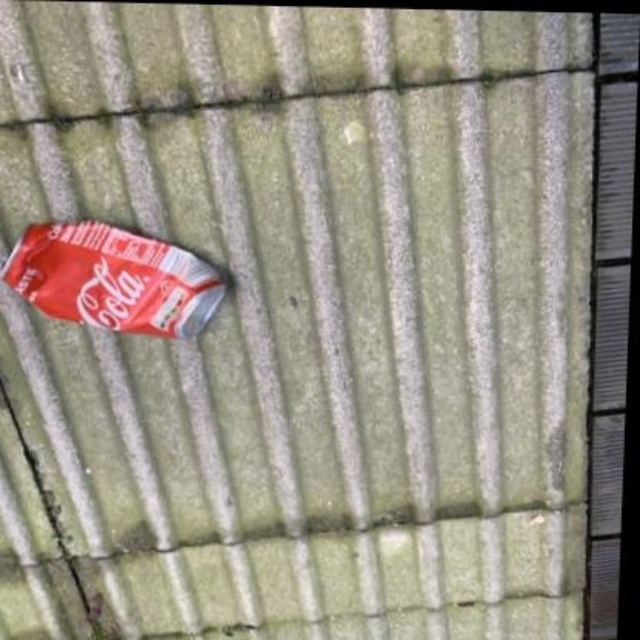trash: (2, 222, 225, 337)
